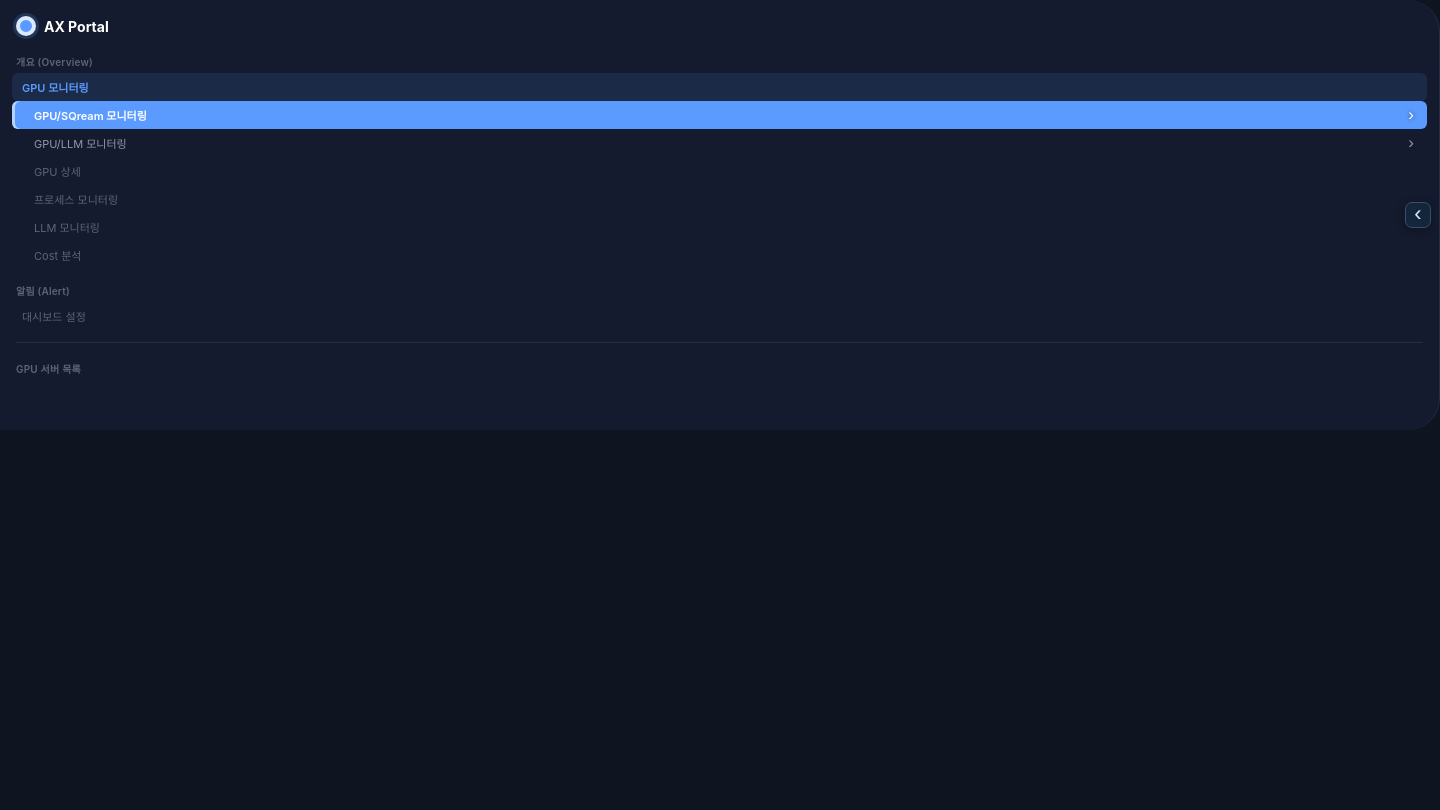
Sidebar — 드릴다운 서브메뉴 › LLM 서브메뉴도 독립적으로 토글되고 5개 항목을 가진다
What coordinates should you click on to do the following:
click the button named "LLM 상세 메뉴 펼치기"
I would click on:
 (1411, 143)
Its box is [1400,132,1422,154].
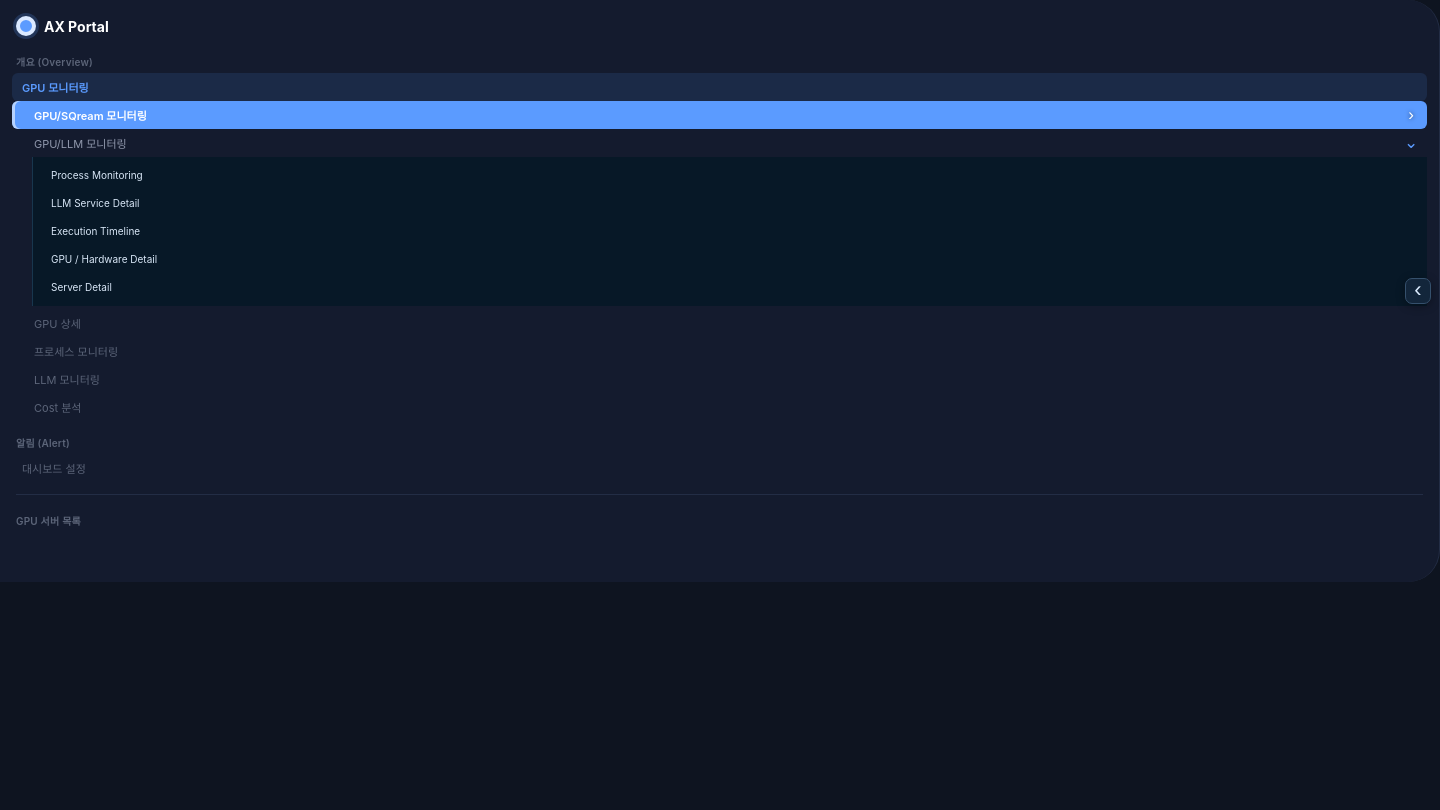
Expected: the number of links is 5, [51,169,143,181]; [51,197,140,209]; [51,225,140,237]; [51,253,157,265]; [51,281,112,293]
